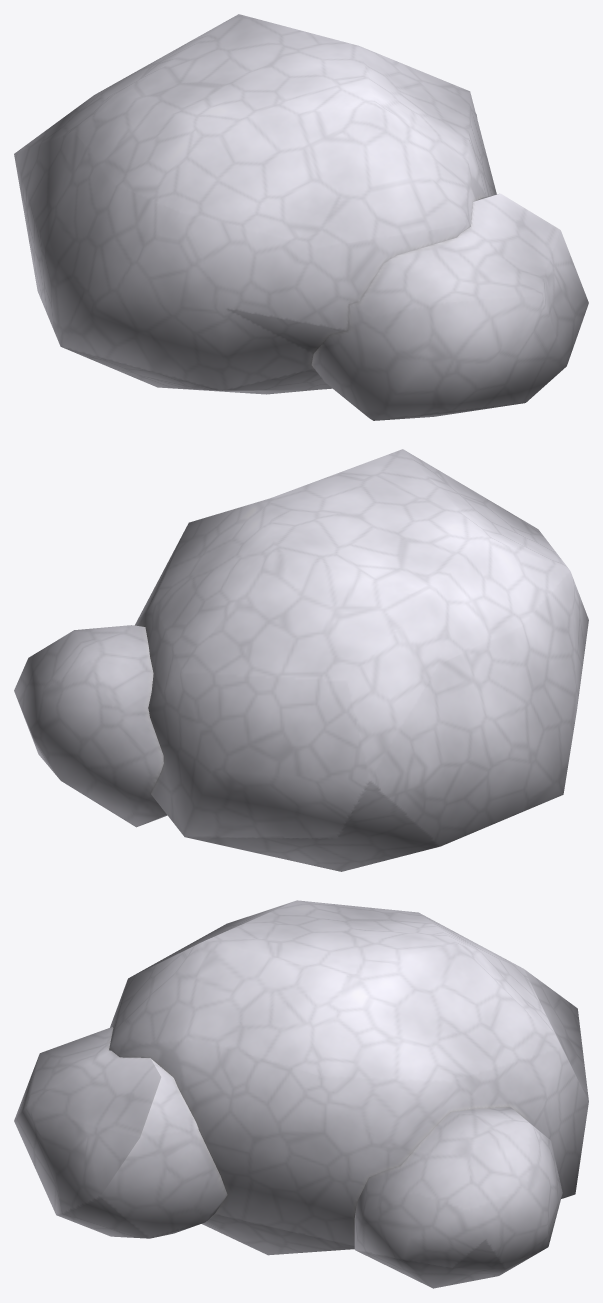
File: sf_snow_pile.glb
The picture shows the model from 3 angles, top to bottom: view 1: azimuth 30°, elevation 25°; view 2: azimuth 150°, elevation 25°; view 3: azimuth 270°, elevation 25°; orthographic projection. The views are drawn at different scales.
Parts seen in each view (by area): view 1: sf_snow_pile; view 2: sf_snow_pile; view 3: sf_snow_pile.
Part boxes in pixels (x1=…): sf_snow_pile: x1=14, y1=14, x2=588, y2=420; sf_snow_pile: x1=14, y1=449, x2=588, y2=871; sf_snow_pile: x1=14, y1=900, x2=588, y2=1288.
Size of the model in its own units: 2.73 by 1.72 by 2.96.
1 material, 1 textured.
